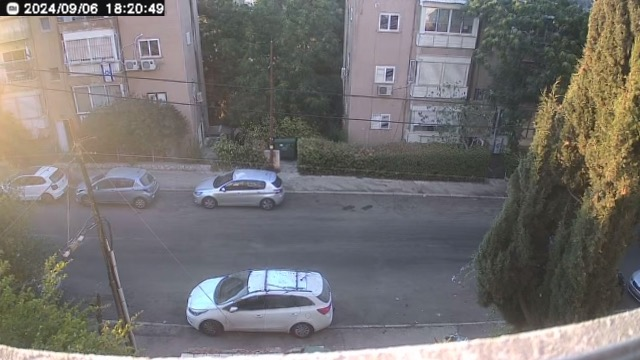empty: (334, 271, 482, 336), (287, 169, 503, 213), (62, 266, 186, 326)
